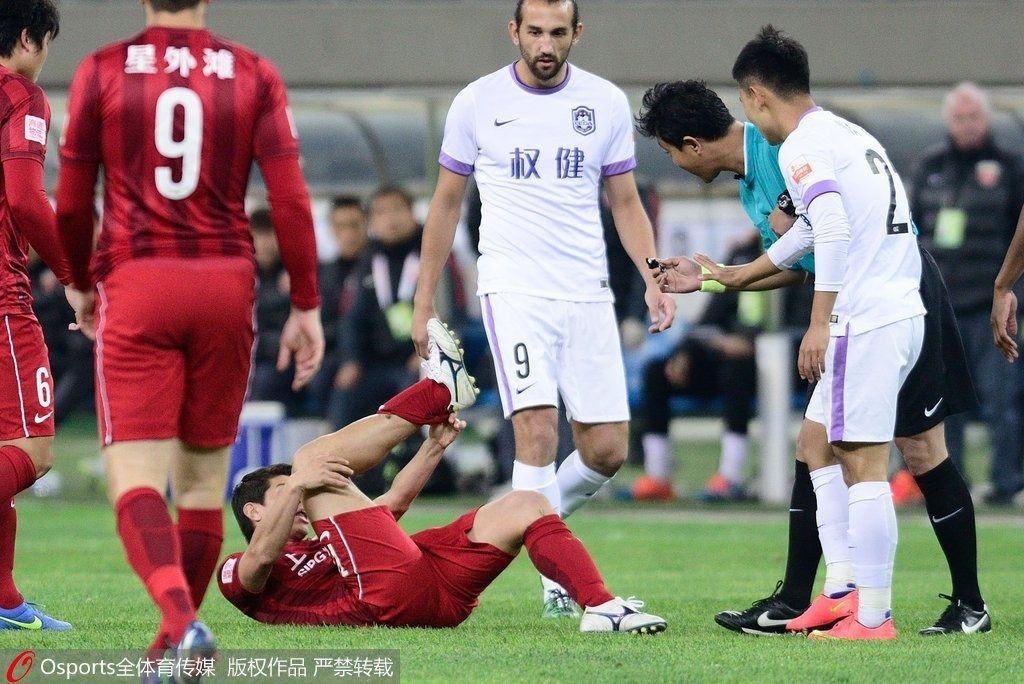10+: (1, 1, 1016, 676)
down: (210, 308, 674, 643)
